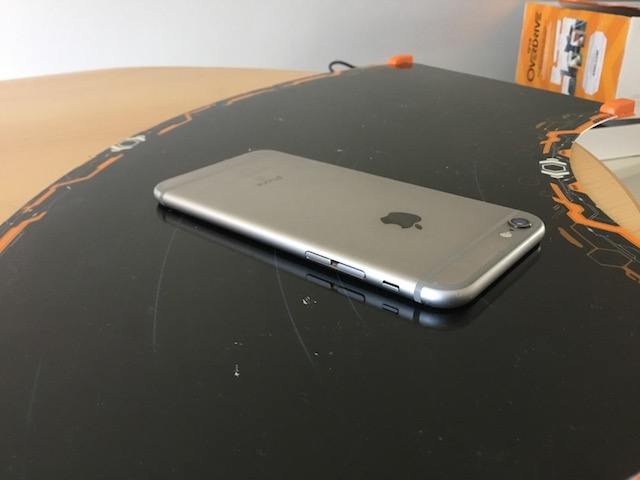phone: (149, 146, 550, 318)
